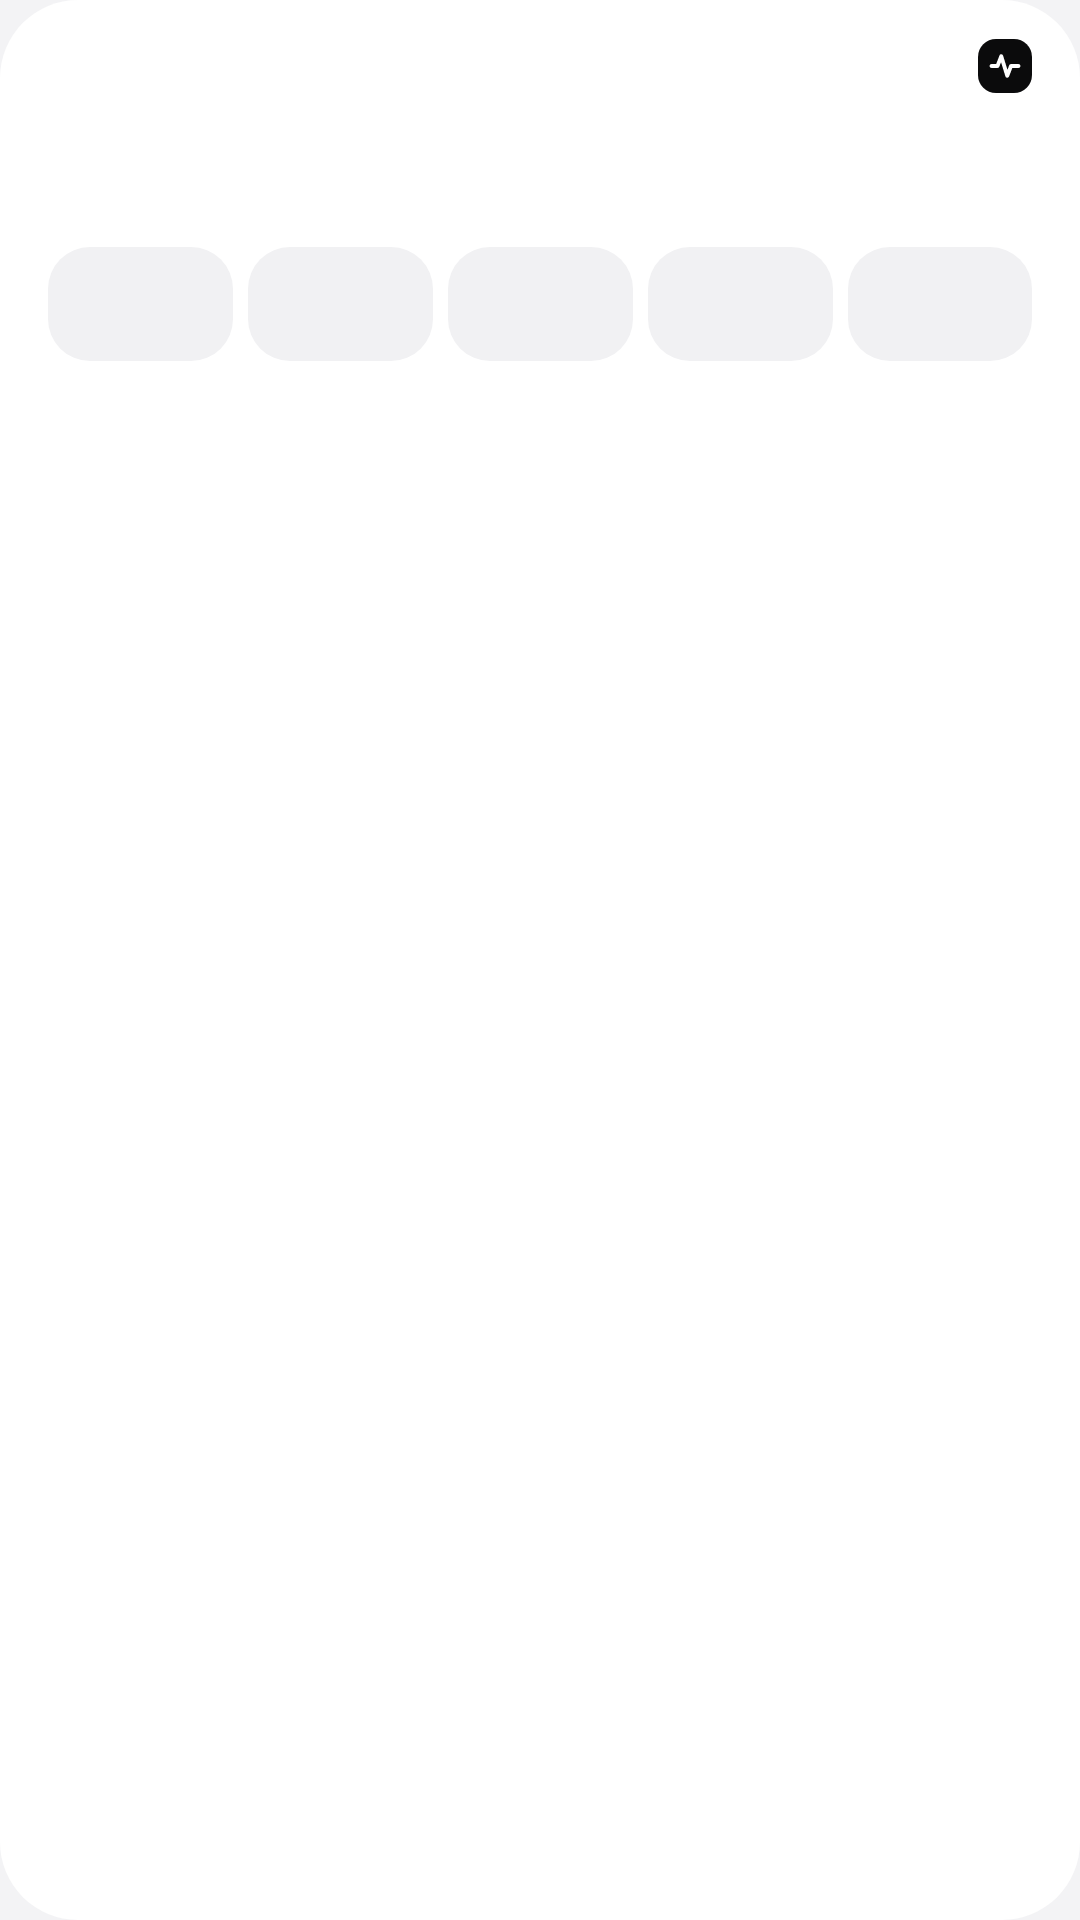

Point at icon controls on the screen. Image size 1080px×1920px, points as (x,y).
pulse: (1005,66)
